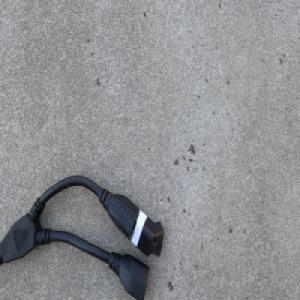Wire: (0, 172, 164, 300)
